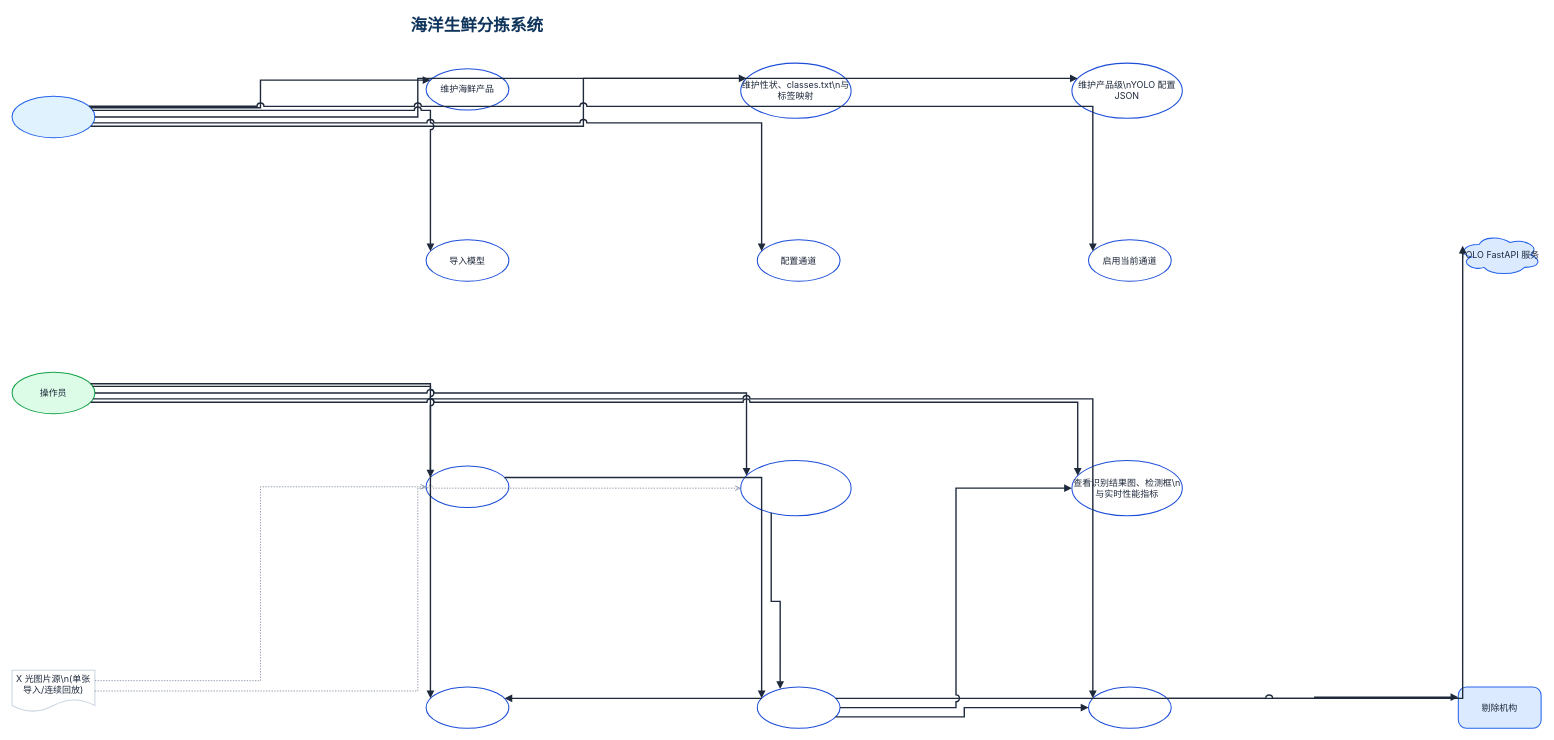
The diagram is 1554 pixels wide and 740 high, and some of its shapes have lost their labels. The centre of each missing label's shape, as x and y in pixels:
"单张 X 光图联调" belongs at (467,486).
"查看海鲜总数\n与性状统计" belongs at (467,707).
"生成剔除命令预览" belongs at (1129,707).
"管理员" belongs at (53,116).
"调用 YOLO 推理服务" belongs at (798,707).
"连续图像回放联调" belongs at (795,488).
